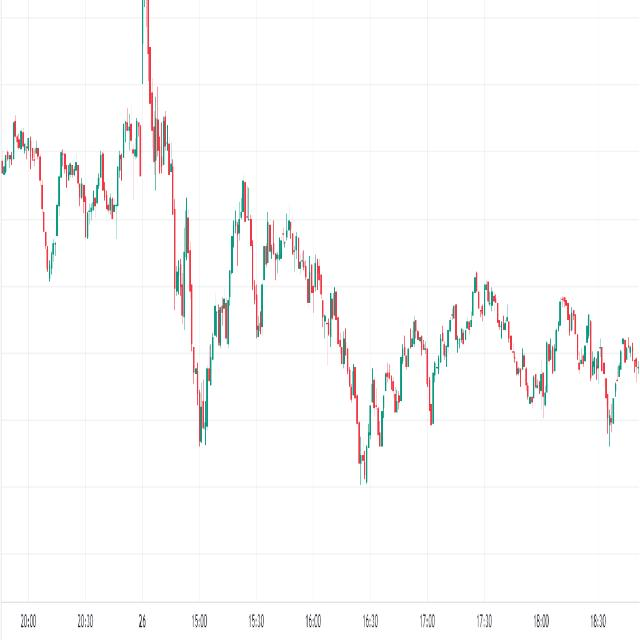Ascending-Triangle: (35, 110, 156, 347)
Channel-down: (279, 171, 362, 433)
Inverse-Head-Shoulders: (165, 148, 272, 474)
Rounding-Top: (347, 351, 422, 547), (431, 266, 529, 390)
